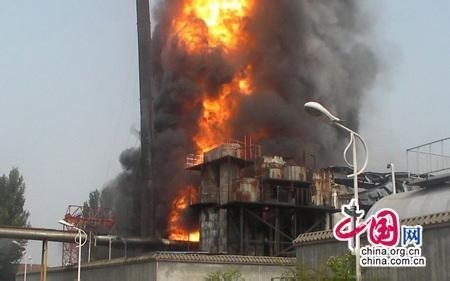fire: (191, 61, 252, 157), (171, 0, 252, 49), (167, 183, 201, 242)
